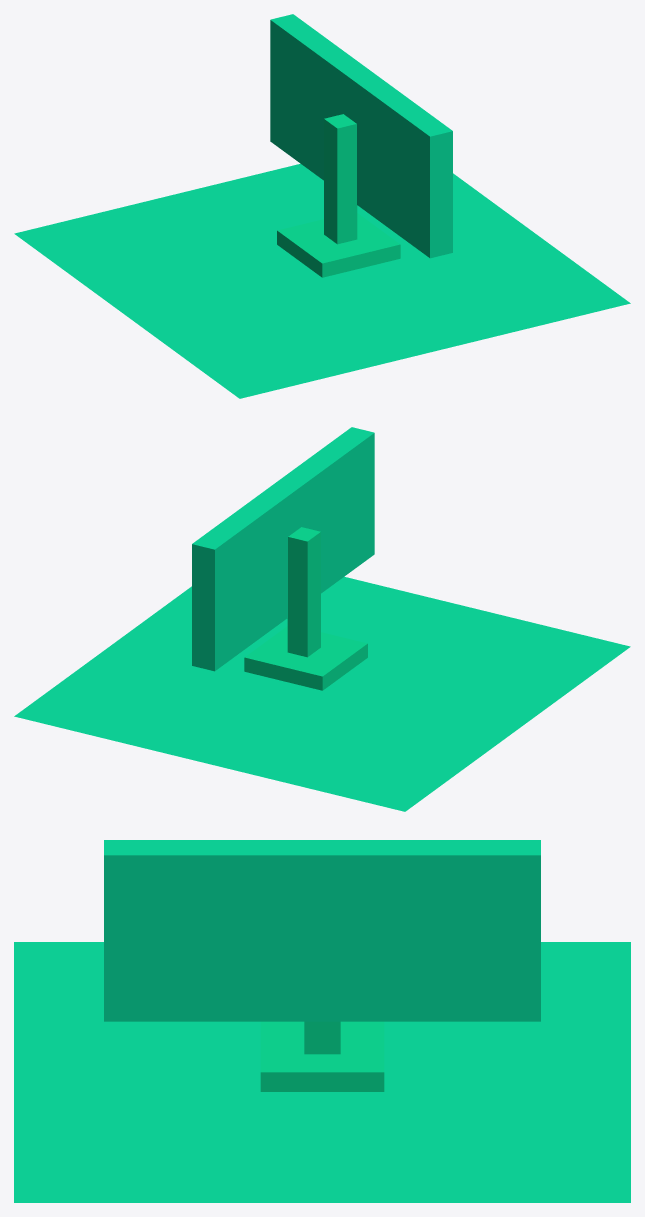
File: Crunch Diorama 1.fbx
3 renders of one model, top to bottom at view 1: azimuth 30°, elevation 25°; view 2: azimuth 150°, elevation 25°; view 3: azimuth 270°, elevation 25°, orthographic. The views are drawn at different scales.
Parts seen in each view (by area): view 1: Plane, Cube.001, Cube; view 2: Plane, Cube.001, Cube; view 3: Plane, Cube.001, Cube.
Part boxes in pixels (left/top/right/bottom): Plane: left=14, top=14, right=630, bottom=398; Cube.001: left=277, top=213, right=400, bottom=277; Cube: left=324, top=114, right=357, bottom=244; Plane: left=14, top=427, right=630, bottom=811; Cube.001: left=244, top=626, right=367, bottom=690; Cube: left=287, top=527, right=320, bottom=657; Plane: left=14, top=840, right=630, bottom=1202; Cube.001: left=260, top=1021, right=384, bottom=1091; Cube: left=304, top=1021, right=340, bottom=1054.
Size of the model in its own units: 1000 by 449 by 1000.
